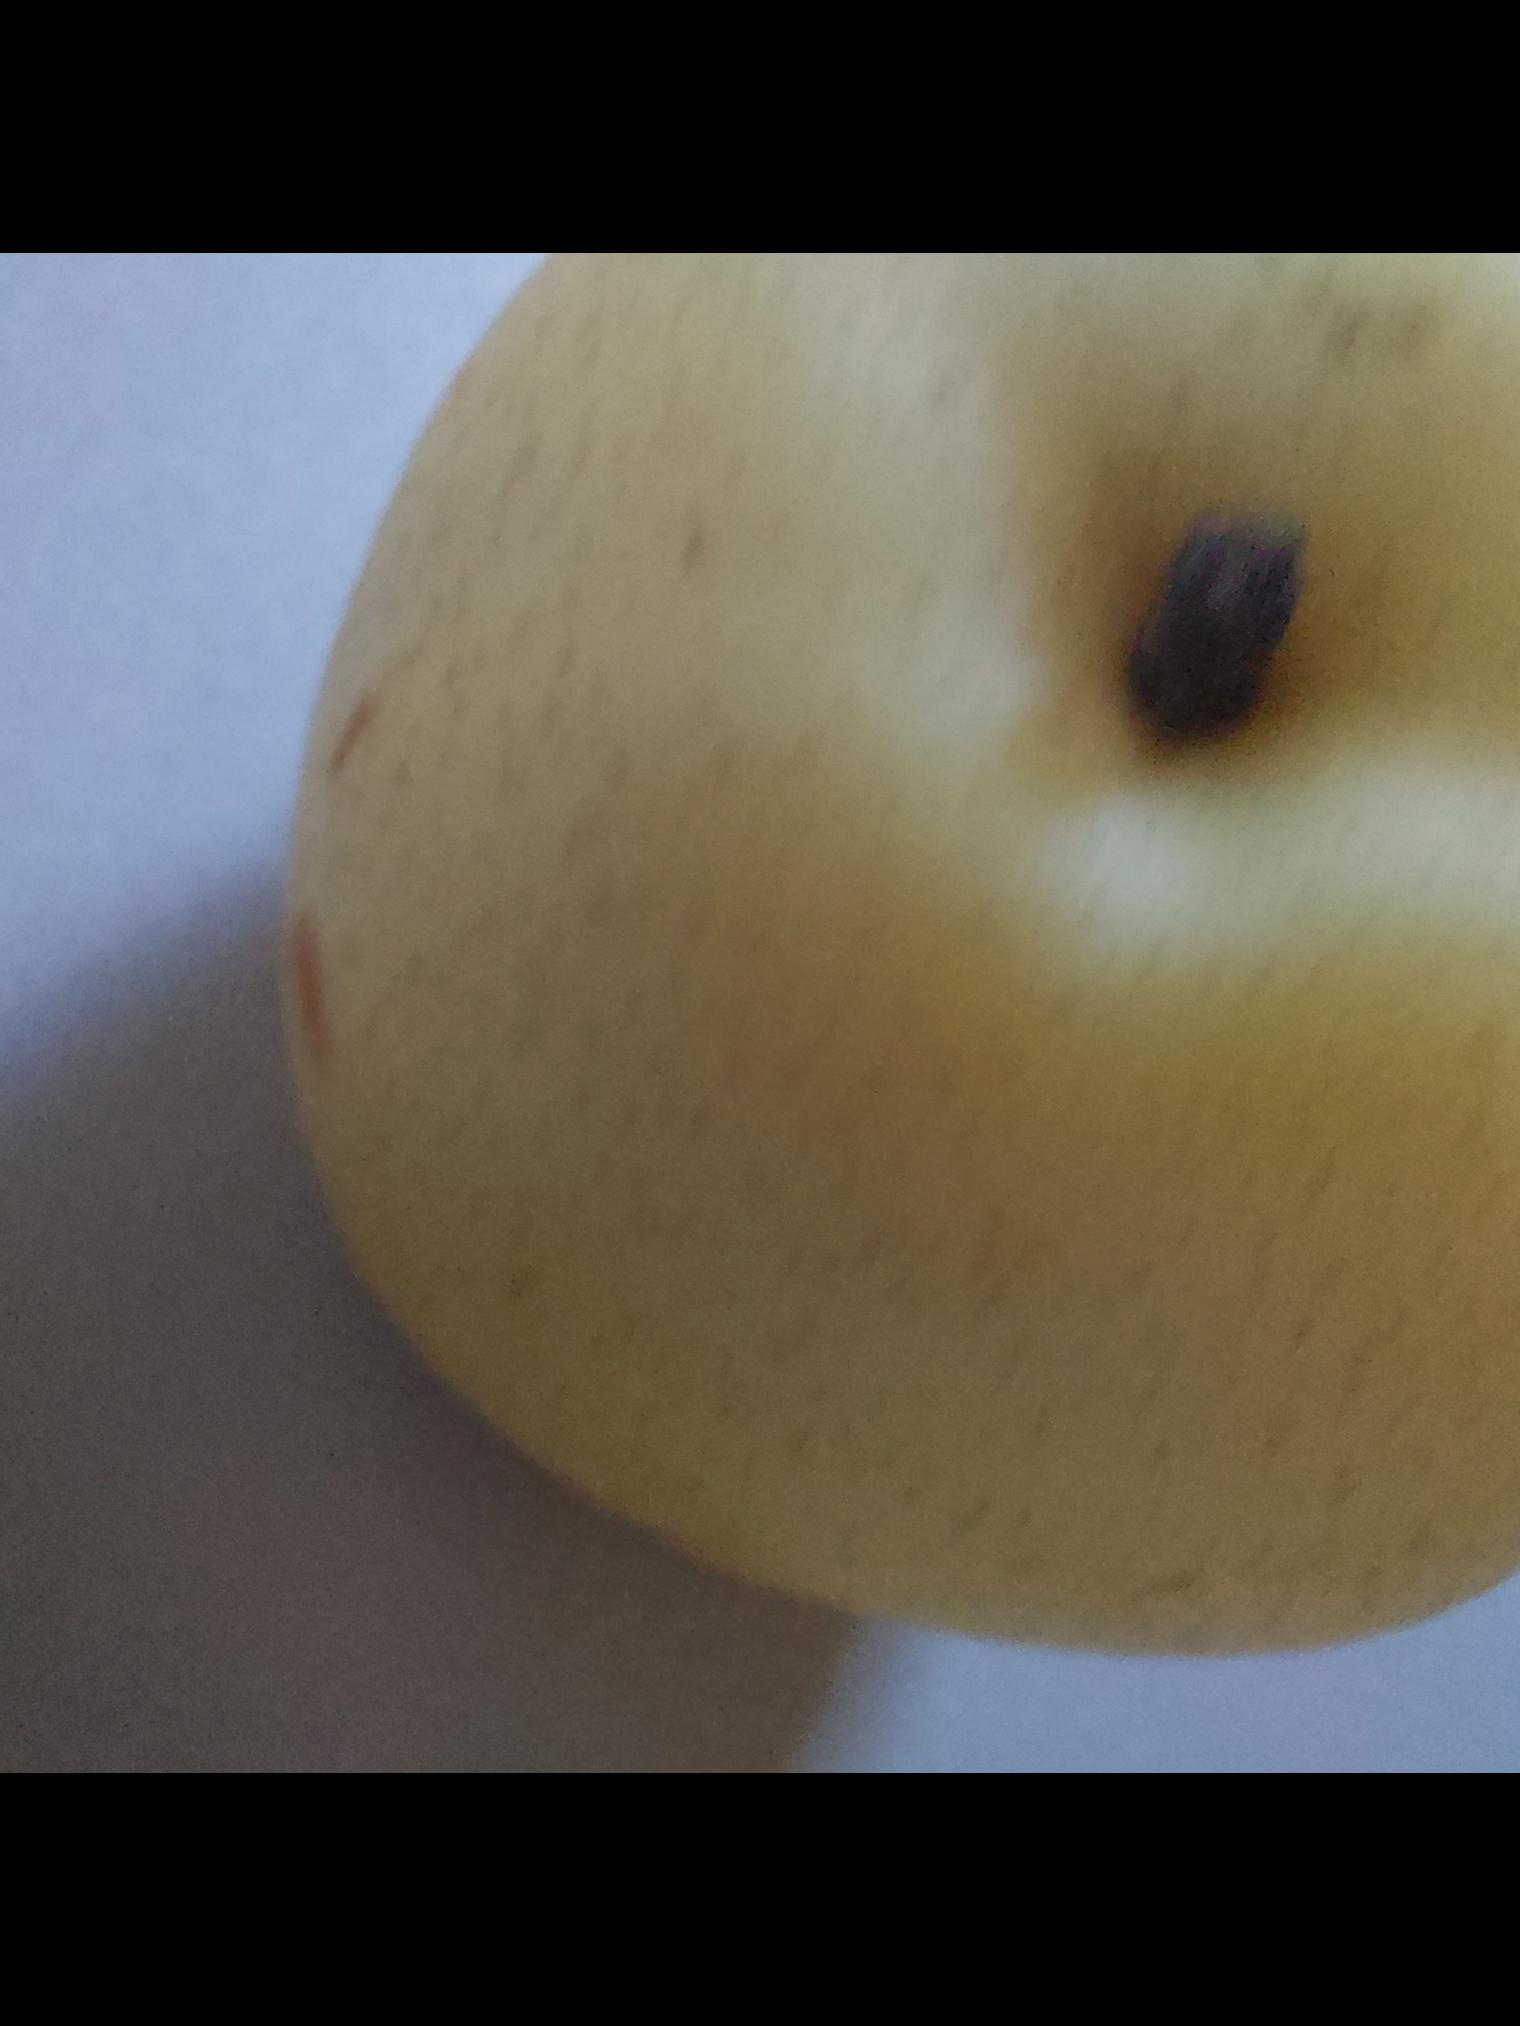Good Pear: (263, 252, 1520, 1684)
